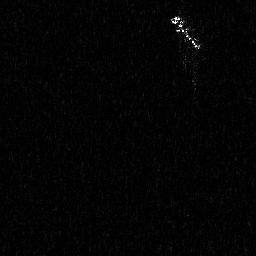ship: (167, 11, 205, 54)
